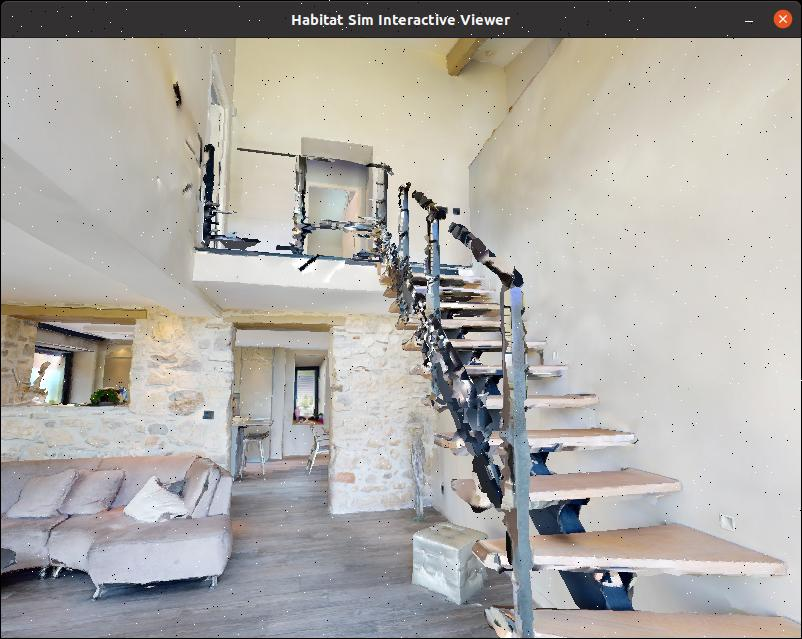door-frame: (225, 319, 340, 532), (291, 135, 382, 275)
sofa: (0, 444, 278, 602)
stairs: (385, 249, 716, 639)
